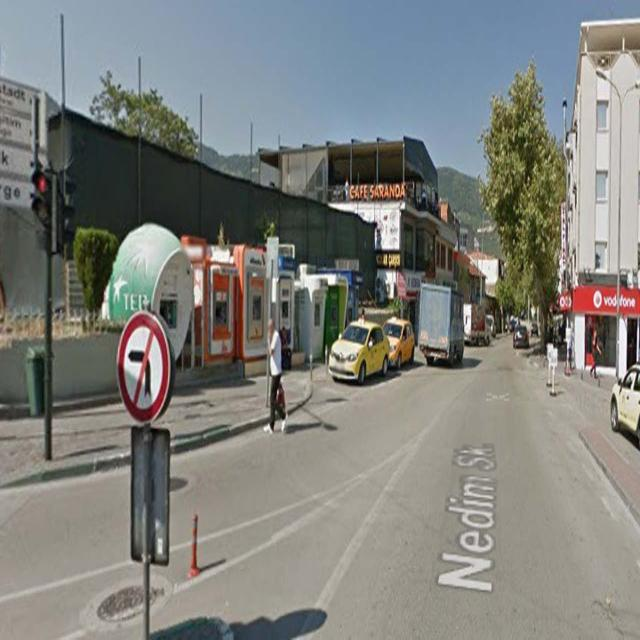soladonulmez: (116, 312, 170, 421)
